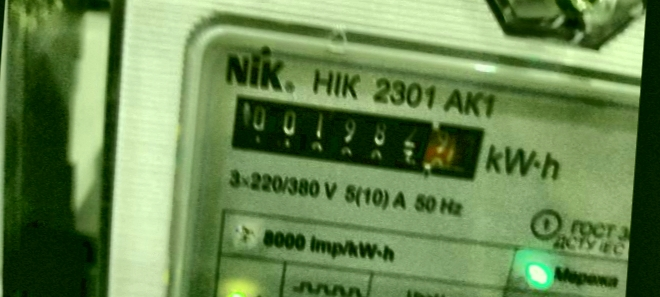0: (276, 105, 295, 135), (247, 99, 265, 129)
1: (308, 107, 322, 137)
2: (398, 116, 418, 146)
8: (368, 115, 386, 144)
9: (429, 124, 450, 154), (337, 112, 354, 142)
screen: (209, 77, 497, 193)
